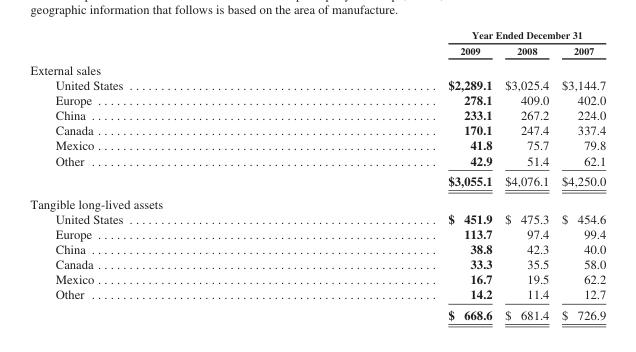table: (29, 28, 605, 321)
table column: (29, 28, 284, 321), (284, 28, 497, 321), (497, 28, 554, 321), (554, 28, 605, 321)
table column header: (29, 28, 605, 59)
table projected row header: (29, 191, 605, 210), (29, 59, 605, 76)
table row: (29, 170, 605, 191), (29, 191, 605, 210), (29, 152, 605, 170), (29, 286, 605, 304), (29, 42, 605, 59), (29, 59, 605, 76), (29, 304, 605, 321), (29, 91, 605, 107), (29, 240, 605, 256), (29, 76, 605, 91), (29, 107, 605, 122), (29, 122, 605, 137), (29, 137, 605, 152), (29, 210, 605, 225), (29, 225, 605, 240), (29, 256, 605, 271), (29, 271, 605, 286), (29, 28, 605, 42)
table spanning cell: (284, 28, 605, 42)
